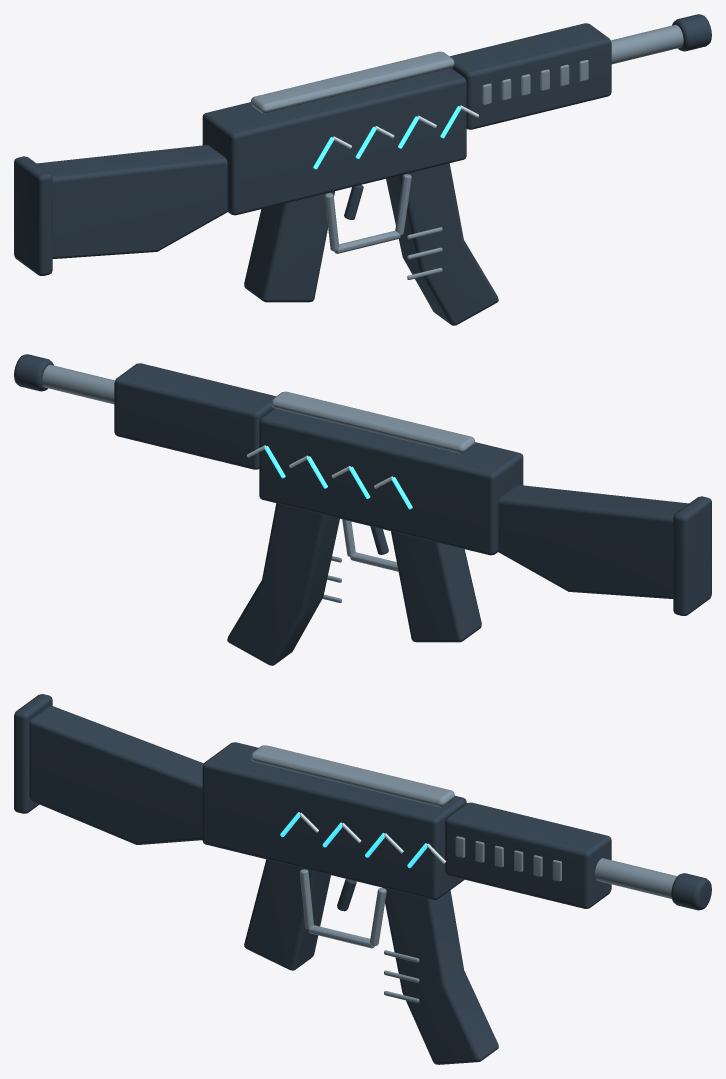
The picture shows the model from 3 angles, top to bottom: view 1: azimuth 30°, elevation 25°; view 2: azimuth 150°, elevation 25°; view 3: azimuth 330°, elevation 25°; orthographic projection.
Parts seen in each view (by area): view 1: Receiver.001, Shoulder stock.002, Handguard, Magazine.002, Pistol grip.003, Butt pad.002, Sight rail, Barrel.003, Muzzle.002, Trigger guard.013, Trigger guard.014, Trigger guard.012; view 2: Receiver.001, Shoulder stock.002, Handguard, Magazine.002, Pistol grip.003, Butt pad.002, Sight rail, Barrel.003, Muzzle.002; view 3: Receiver.001, Shoulder stock.002, Magazine.002, Handguard, Pistol grip.003, Sight rail, Butt pad.002, Barrel.003, Muzzle.002, Trigger guard.013.
Boxes of the visible parts, left/top/right/bottom form: Receiver.001: left=202, top=68, right=466, bottom=215; Shoulder stock.002: left=37, top=145, right=227, bottom=258; Handguard: left=450, top=23, right=611, bottom=129; Magazine.002: left=386, top=163, right=498, bottom=325; Pistol grip.003: left=244, top=191, right=334, bottom=302; Butt pad.002: left=14, top=156, right=52, bottom=275; Sight rail: left=251, top=51, right=454, bottom=113; Barrel.003: left=610, top=24, right=683, bottom=64; Muzzle.002: left=672, top=14, right=711, bottom=51; Trigger guard.013: left=334, top=230, right=400, bottom=253; Trigger guard.014: left=395, top=174, right=411, bottom=235; Trigger guard.012: left=324, top=193, right=339, bottom=251; Receiver.001: left=259, top=408, right=523, bottom=555; Shoulder stock.002: left=498, top=485, right=688, bottom=598; Handguard: left=114, top=363, right=275, bottom=469; Magazine.002: left=227, top=503, right=339, bottom=665; Pistol grip.003: left=391, top=531, right=481, bottom=642; Butt pad.002: left=673, top=496, right=711, bottom=615; Sight rail: left=271, top=391, right=474, bottom=453; Barrel.003: left=42, top=364, right=115, bottom=404; Muzzle.002: left=14, top=354, right=53, bottom=391; Receiver.001: left=202, top=742, right=466, bottom=899; Shoulder stock.002: left=29, top=706, right=203, bottom=844; Magazine.002: left=382, top=887, right=498, bottom=1064; Handguard: left=445, top=802, right=611, bottom=908; Pistol grip.003: left=244, top=859, right=330, bottom=970; Sight rail: left=251, top=745, right=454, bottom=807; Butt pad.002: left=14, top=694, right=52, bottom=813; Barrel.003: left=595, top=858, right=676, bottom=898; Muzzle.002: left=671, top=873, right=711, bottom=910; Trigger guard.013: left=308, top=925, right=374, bottom=948.
Bounding box in the file's own units: 5.62 × 2.09 × 0.5038.
